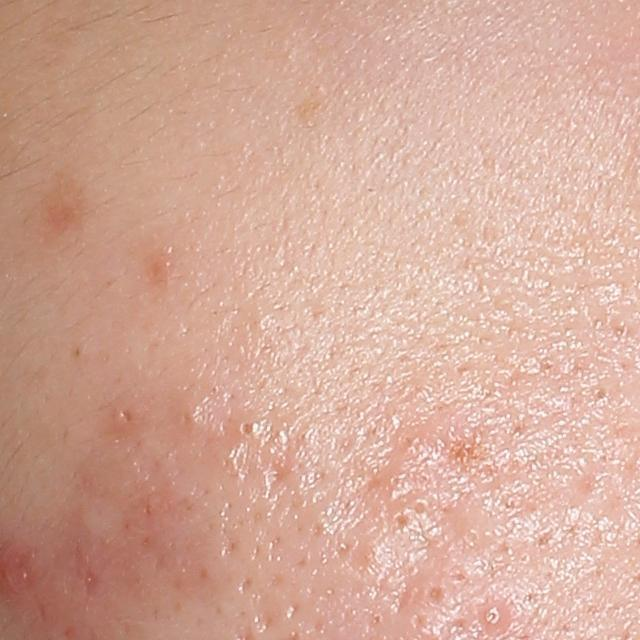comedo: (477, 601, 514, 634), (422, 579, 454, 607), (233, 414, 262, 442)
